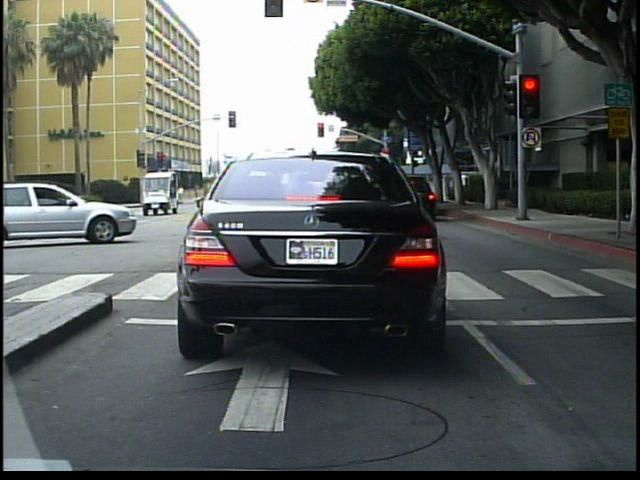person: (277, 146, 319, 283), (249, 144, 283, 279)
